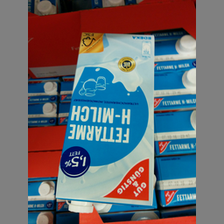milk: (57, 30, 159, 211)
